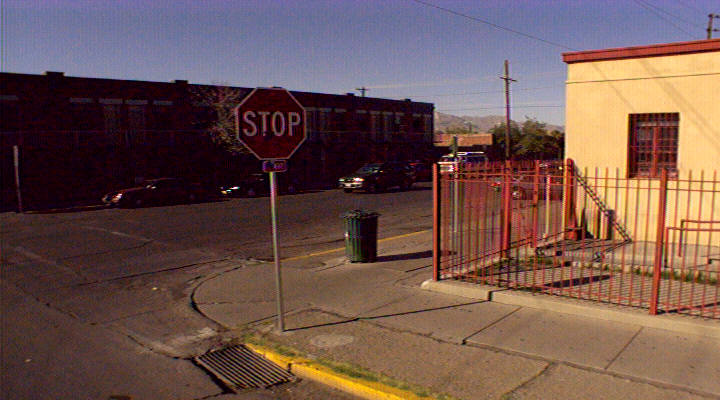Ramp: (143, 251, 398, 352)
